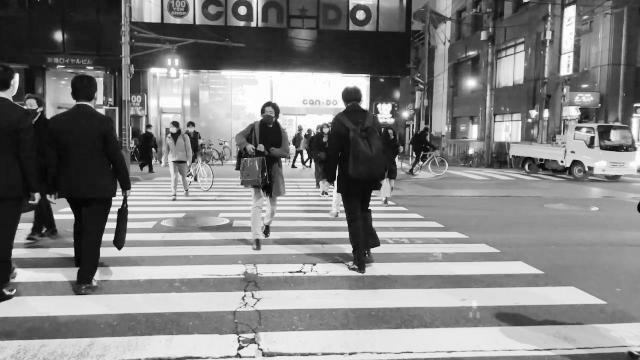berjalan: (39, 62, 130, 296), (319, 82, 397, 278), (232, 98, 298, 254), (156, 118, 197, 202)
